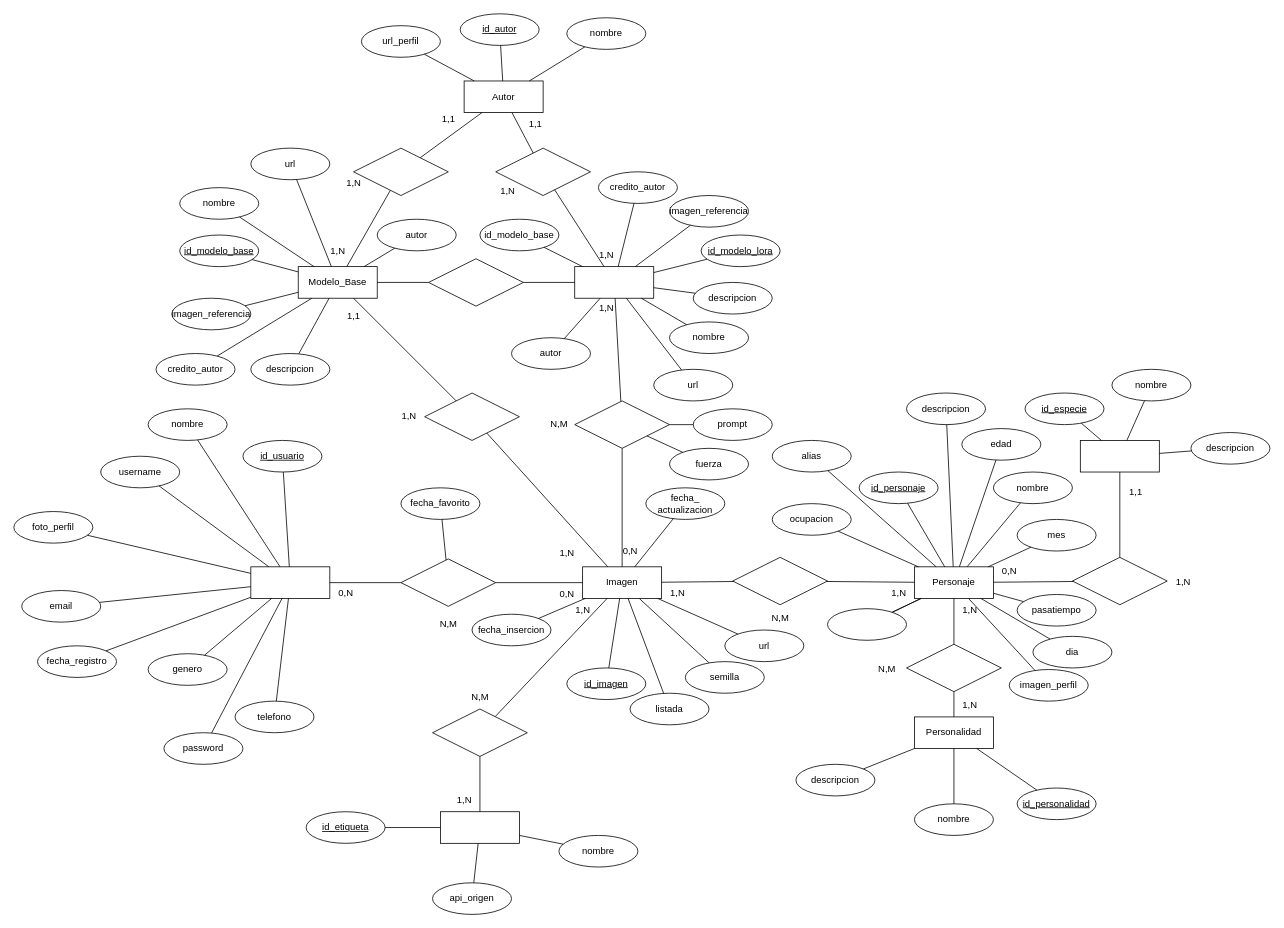
Image size: 1284x928. Some labels were removed from this diagram. The shapes that lost their labels are listed below. From the top down, each one's box as (x1, y1, x2, y2) in pixels, then its label:
(353, 147, 448, 196): entrena_modelo _base
(495, 147, 591, 196): entrena_modelo _lora
(428, 258, 523, 306): se_basa_en
(574, 266, 654, 298): Modelo_Lora
(424, 392, 519, 440): usa_modelo _base
(574, 400, 670, 448): usa_modelo _lora
(1080, 440, 1159, 472): Especie
(250, 566, 330, 598): Usuario
(400, 558, 496, 606): favorito
(732, 557, 828, 605): aparece_en
(1072, 557, 1167, 605): pertenece_a
(827, 608, 907, 640): historia
(906, 643, 1001, 692): tiene_ personalidad
(432, 708, 527, 756): tiene_etiqueta
(440, 811, 519, 843): Etiqueta
